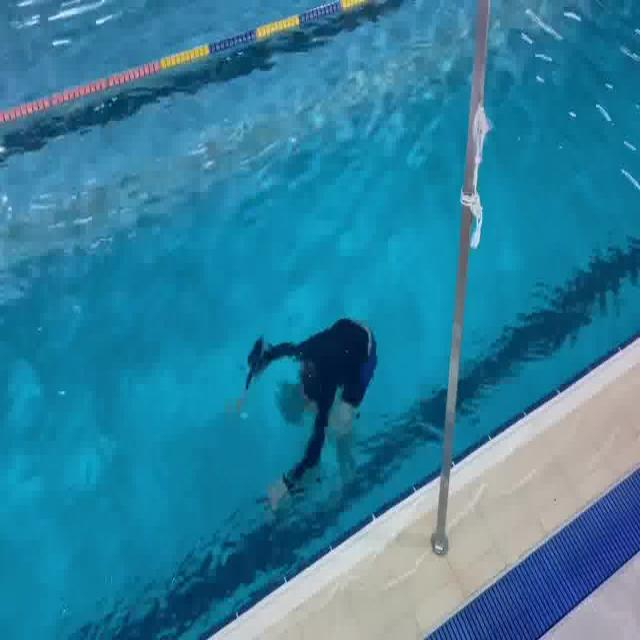Drowning: (234, 316, 396, 532)
